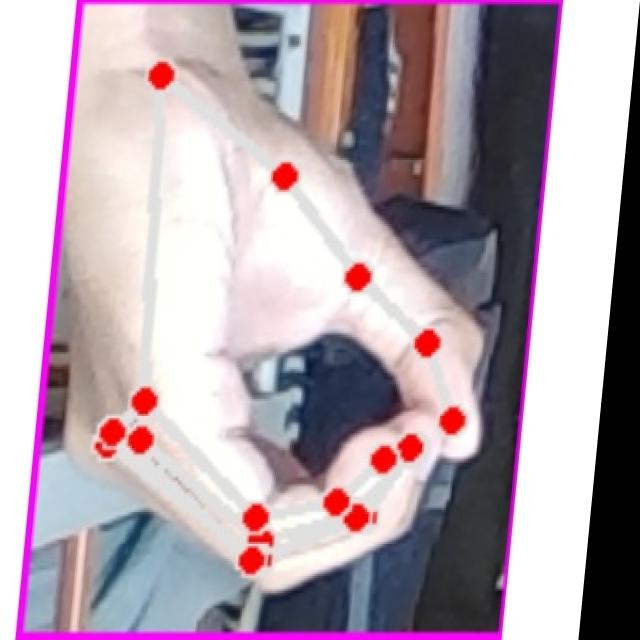O: (42, 40, 542, 604)
